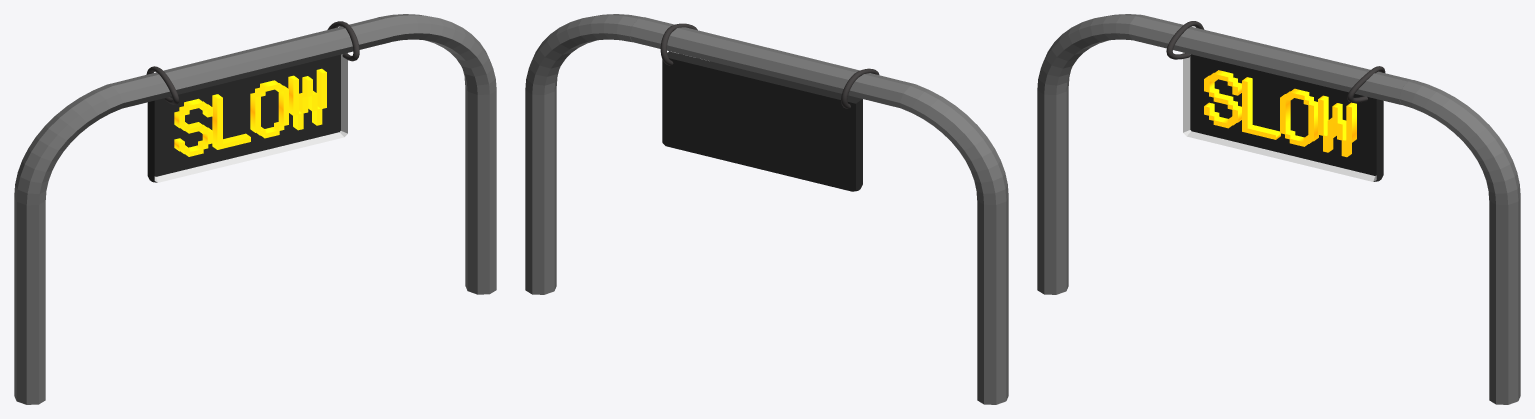
File: slow_sign_limbo.glb
3 renders of one model, left to right at view 1: azimuth 30°, elevation 25°; view 2: azimuth 150°, elevation 25°; view 3: azimuth 330°, elevation 25°, orthographic.
Visible parts, largest first — view 1: BézierCurve; view 2: BézierCurve; view 3: BézierCurve.
Part boxes in pixels (bbox=[...]): BézierCurve: bbox=[14, 14, 496, 404]; BézierCurve: bbox=[525, 14, 1008, 404]; BézierCurve: bbox=[1037, 14, 1520, 404].
Size of the model in its own units: 7.81 by 4.6 by 0.9242.
